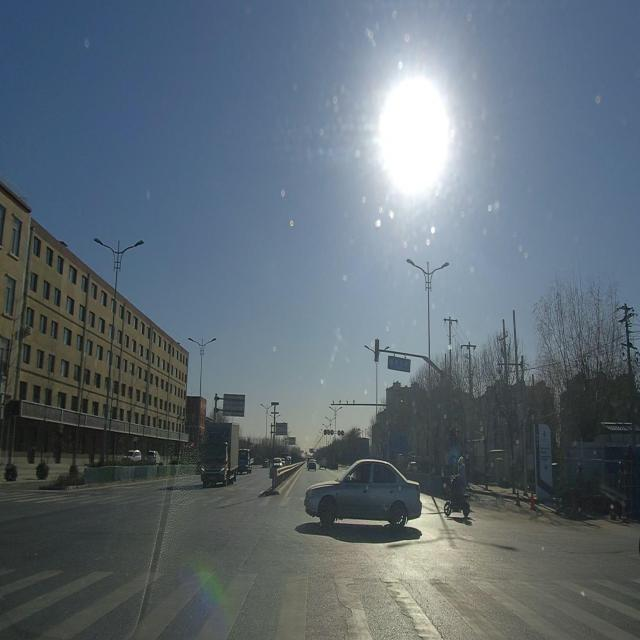Traffic Light -Off-: (374, 338, 380, 364)
